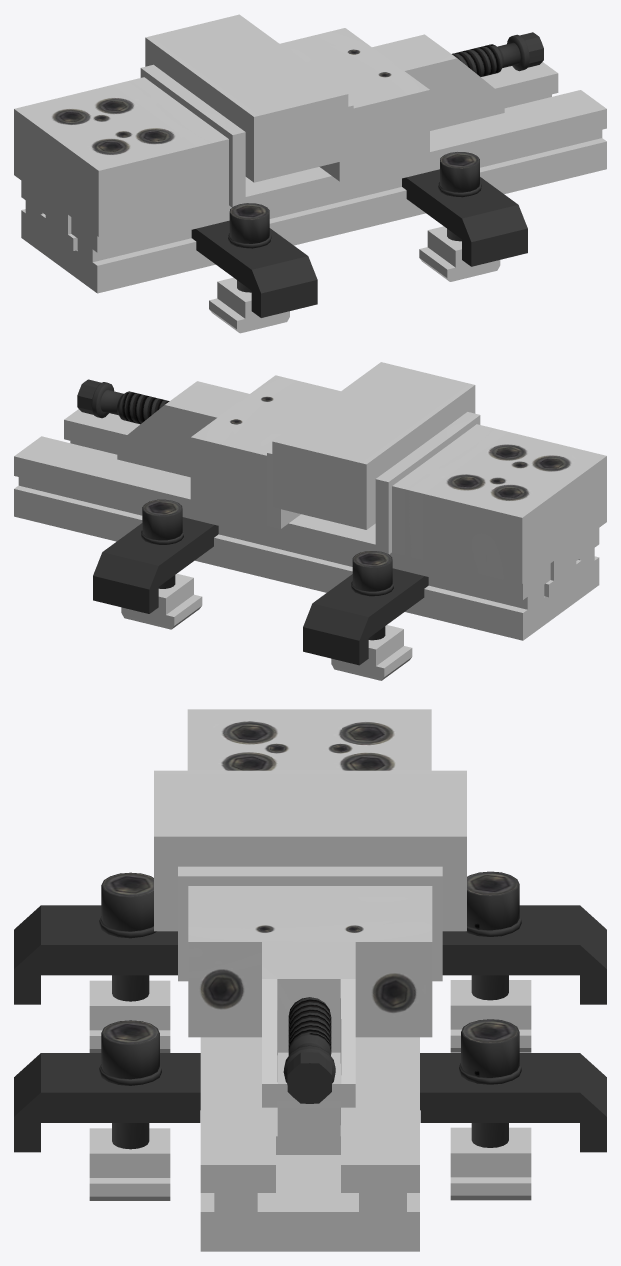
Rendered from Vice.fbx.
3 renders of one model, top to bottom at view 1: azimuth 30°, elevation 25°; view 2: azimuth 150°, elevation 25°; view 3: azimuth 270°, elevation 25°, orthographic. The views are drawn at different scales.
Parts seen in each view (by area): view 1: Vice Base, Vice Counter Part, Vice Screw Part, Target, Mounting BracketBL, Mounting BracketFL, Mounting Screw.000, Mounting Screw.005; view 2: Vice Base, Vice Counter Part, Vice Screw Part, Target, Mounting BracketBR, Mounting BracketFR, Mounting Screw.001, Mounting Screw.002; view 3: Vice Screw Part, Vice Base, Target, Vice Counter Part, Mounting BracketFR, Mounting BracketFL, Mounting BracketBR, Mounting BracketBL, Mounting Screw.001, Mounting Screw.005, Mounting Screw.000, Mounting Screw.002.
Part boxes in pixels (left/top/right/bottom): Vice Base: left=21, top=62, right=606, bottom=293; Vice Counter Part: left=14, top=64, right=245, bottom=250; Vice Screw Part: left=280, top=28, right=543, bottom=181; Target: left=145, top=14, right=348, bottom=182; Mounting BracketBL: left=191, top=220, right=317, bottom=317; Mounting BracketFL: left=402, top=169, right=527, bottom=266; Mounting Screw.000: left=209, top=203, right=289, bottom=333; Mounting Screw.005: left=419, top=152, right=500, bottom=281; Vice Base: left=14, top=409, right=599, bottom=640; Vice Counter Part: left=375, top=412, right=606, bottom=597; Vice Screw Part: left=77, top=375, right=340, bottom=528; Target: left=272, top=362, right=475, bottom=529; Mounting BracketBR: left=303, top=568, right=428, bottom=665; Mounting BracketFR: left=93, top=517, right=218, bottom=613; Mounting Screw.001: left=121, top=499, right=202, bottom=629; Mounting Screw.002: left=331, top=551, right=412, bottom=680; Vice Screw Part: left=178, top=866, right=442, bottom=1154; Vice Base: left=200, top=1037, right=419, bottom=1251; Target: left=154, top=770, right=466, bottom=931; Vice Counter Part: left=187, top=709, right=431, bottom=770; Mounting BracketFR: left=420, top=1053, right=606, bottom=1152; Mounting BracketFL: left=14, top=1053, right=200, bottom=1152; Mounting BracketBR: left=442, top=905, right=606, bottom=1004; Mounting BracketBL: left=14, top=905, right=177, bottom=1004; Mounting Screw.001: left=450, top=1019, right=531, bottom=1200; Mounting Screw.005: left=89, top=1020, right=170, bottom=1200; Mounting Screw.000: left=89, top=872, right=170, bottom=1052; Mounting Screw.002: left=450, top=871, right=531, bottom=1052.
Bounding box in the file's own units: 16.34 × 5.86 × 11.37.
